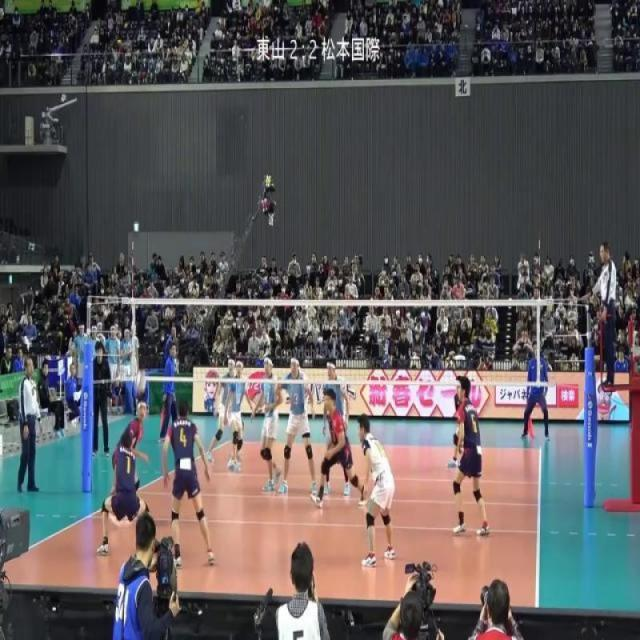volleyball: (134, 368, 146, 394)
